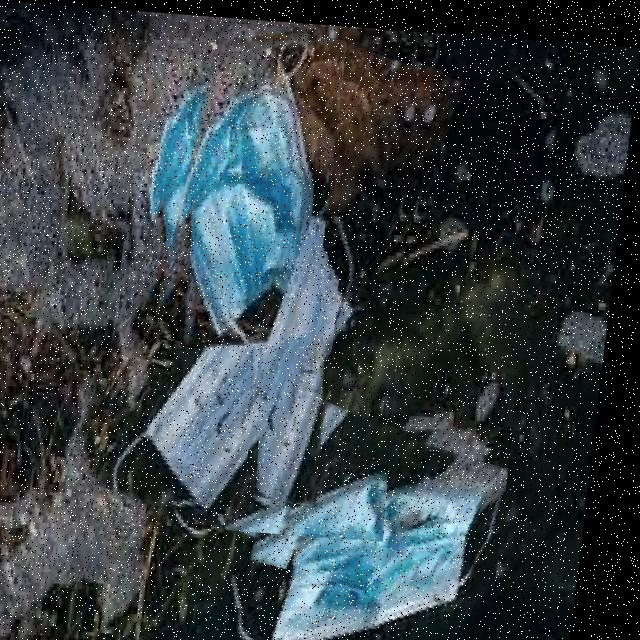mask: (103, 9, 442, 534), (240, 399, 522, 640), (156, 23, 347, 344), (253, 231, 350, 501)
